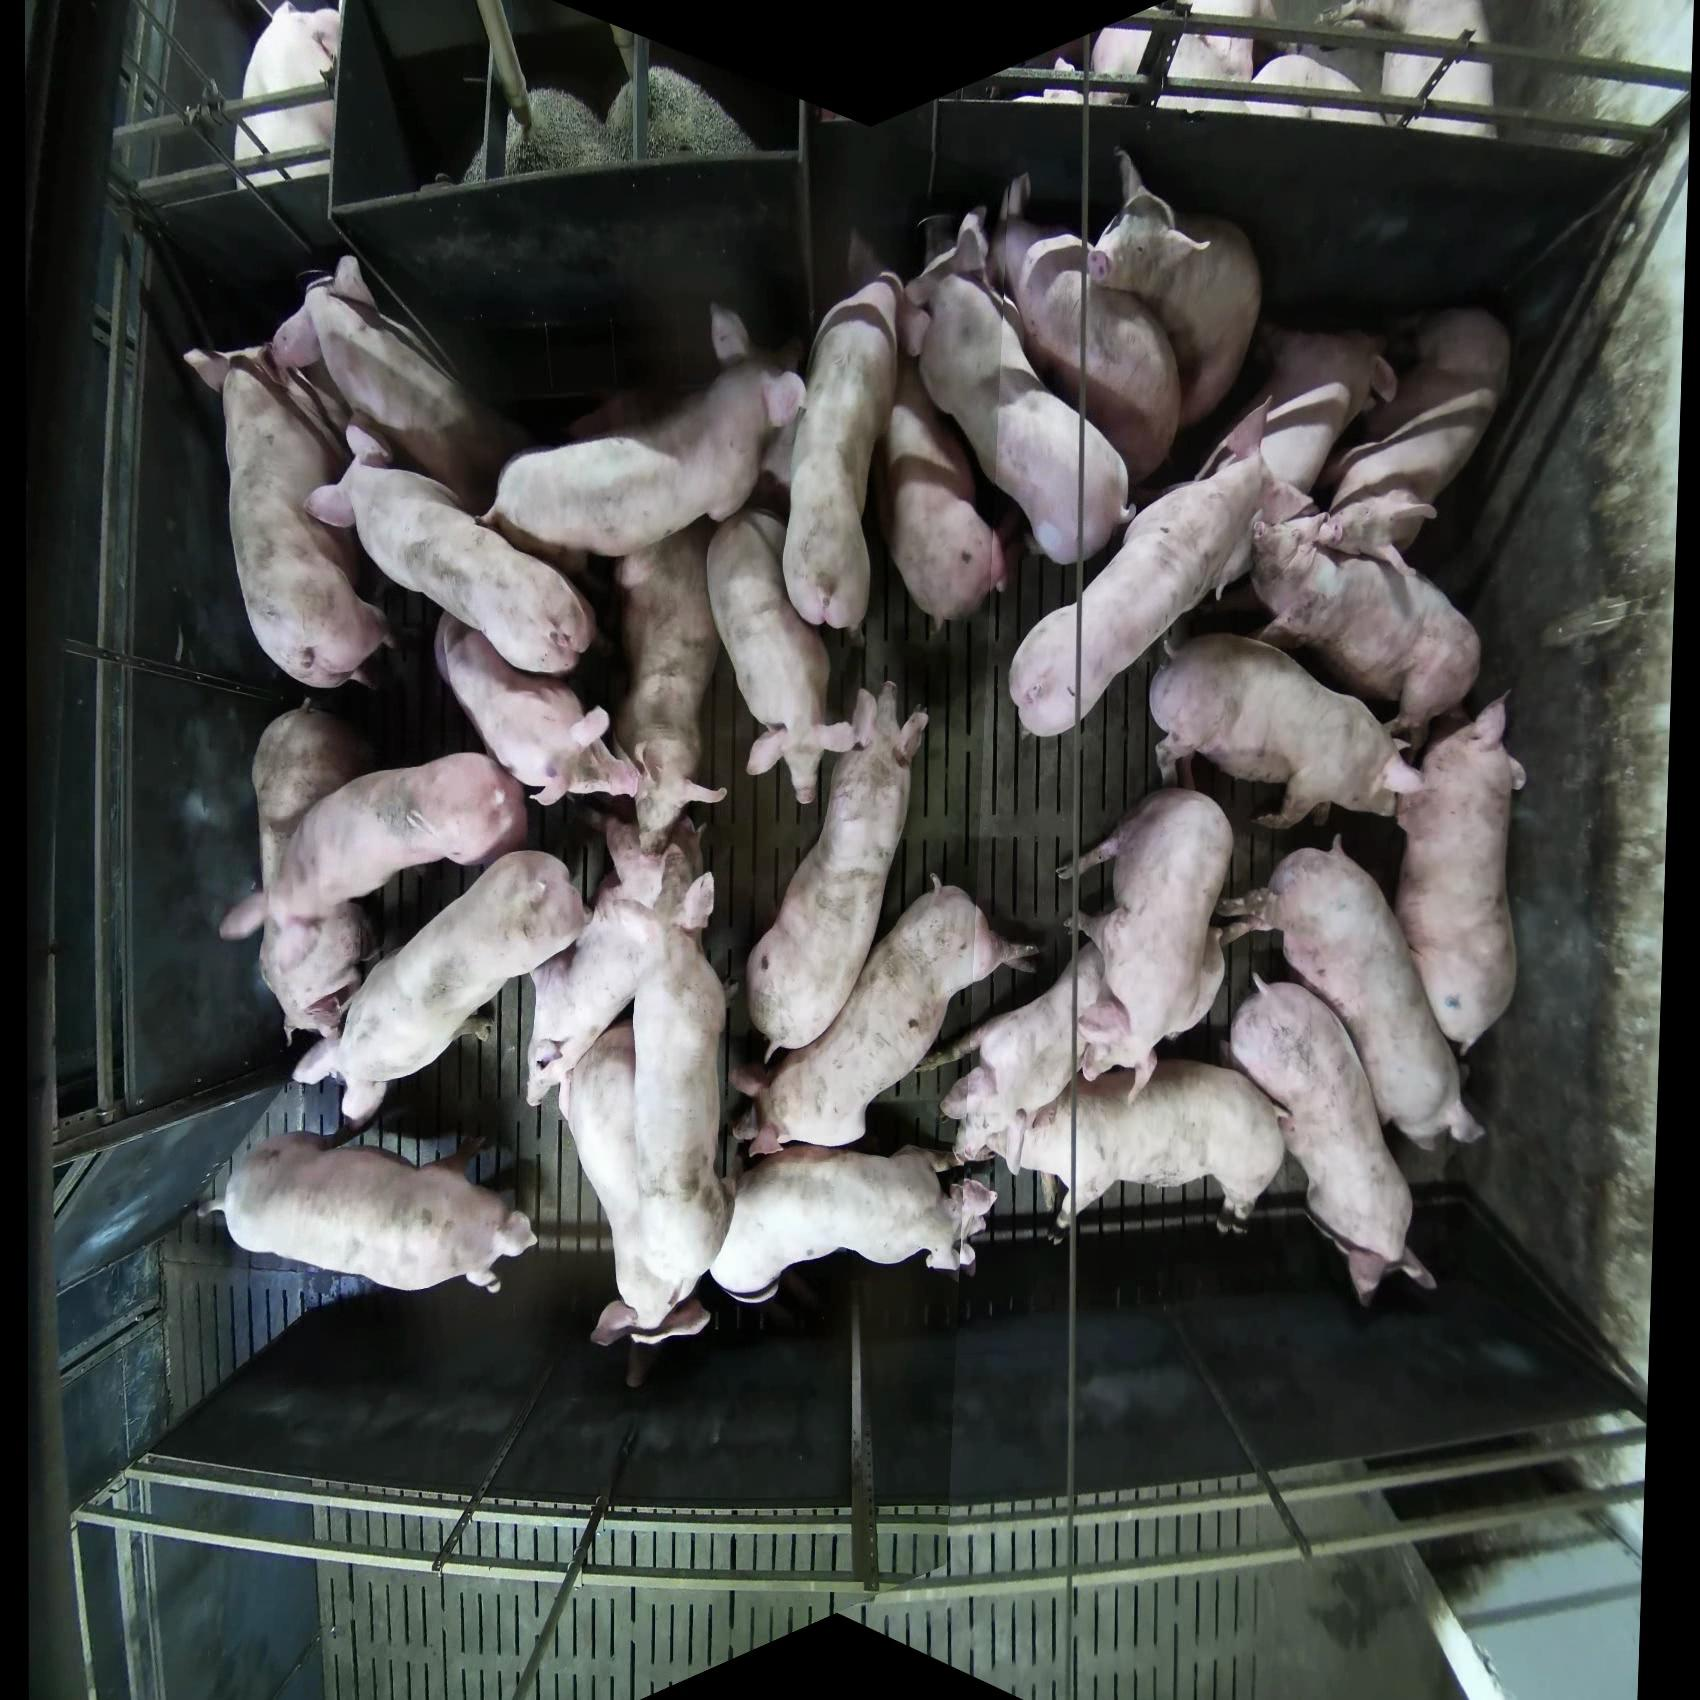pig: (1007, 392, 1277, 739), (730, 876, 1041, 1158), (1217, 836, 1487, 1152), (291, 848, 590, 1129), (487, 302, 806, 557), (305, 423, 598, 677), (184, 342, 394, 693), (744, 679, 931, 1066), (1227, 968, 1438, 1308), (914, 240, 1110, 588), (1247, 484, 1484, 761), (238, 729, 532, 947), (304, 254, 531, 515), (1055, 786, 1238, 1108), (198, 1129, 539, 1295), (616, 873, 741, 1326), (1147, 634, 1426, 831), (1082, 153, 1264, 447), (1392, 691, 1529, 1054), (1009, 1059, 1287, 1235), (710, 1144, 996, 1303), (780, 272, 904, 634), (707, 509, 856, 806), (609, 517, 736, 825), (437, 610, 641, 802), (1021, 243, 1182, 486), (1326, 311, 1509, 525), (551, 1021, 679, 1323), (1196, 322, 1393, 515), (881, 369, 984, 629), (1319, 2, 1495, 139), (232, 2, 344, 191), (246, 898, 380, 1052), (1227, 968, 1351, 1130), (889, 876, 1023, 1012), (1091, 145, 1196, 293), (1147, 2, 1281, 115), (990, 170, 1080, 328), (286, 1031, 397, 1130), (1393, 307, 1509, 402), (269, 262, 364, 375), (810, 276, 900, 389), (1245, 51, 1375, 126), (283, 355, 363, 458), (901, 207, 975, 316), (732, 1054, 803, 1155), (1082, 25, 1158, 103), (1020, 58, 1119, 104), (459, 120, 497, 184)
